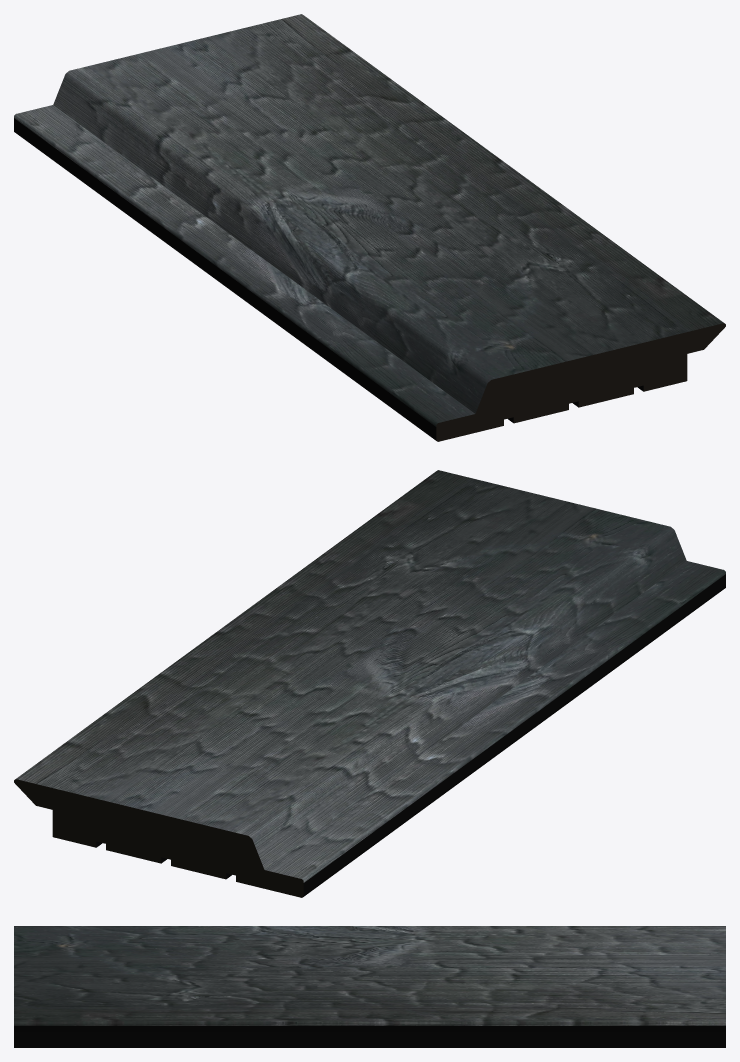
File: thermo-facade-half-tongue-45-black.glb
3 views of the same model, one above another, from view 1: azimuth 30°, elevation 25°; view 2: azimuth 150°, elevation 25°; view 3: azimuth 270°, elevation 25° (orthographic). The views are drawn at different scales.
Parts seen in each view (by area): view 1: Pusė_Špunto_45; view 2: Pusė_Špunto_45; view 3: Pusė_Špunto_45.
Part boxes in pixels (left/top/right/bottom): Pusė_Špunto_45: left=14, top=14, right=725, bottom=441; Pusė_Špunto_45: left=14, top=470, right=725, bottom=897; Pusė_Špunto_45: left=14, top=926, right=725, bottom=1047.
Bounding box in the file's own units: 0.0723 × 0.0117 × 0.1826.
3 materials, 1 textured.
